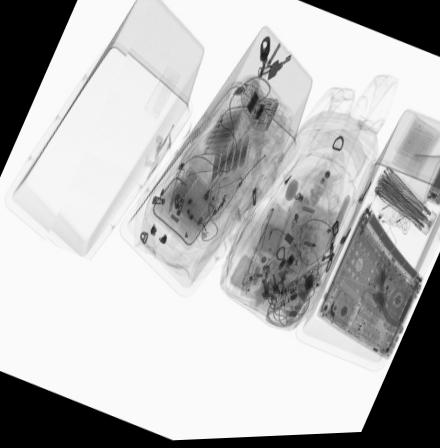Lighter: (196, 220, 209, 242)
